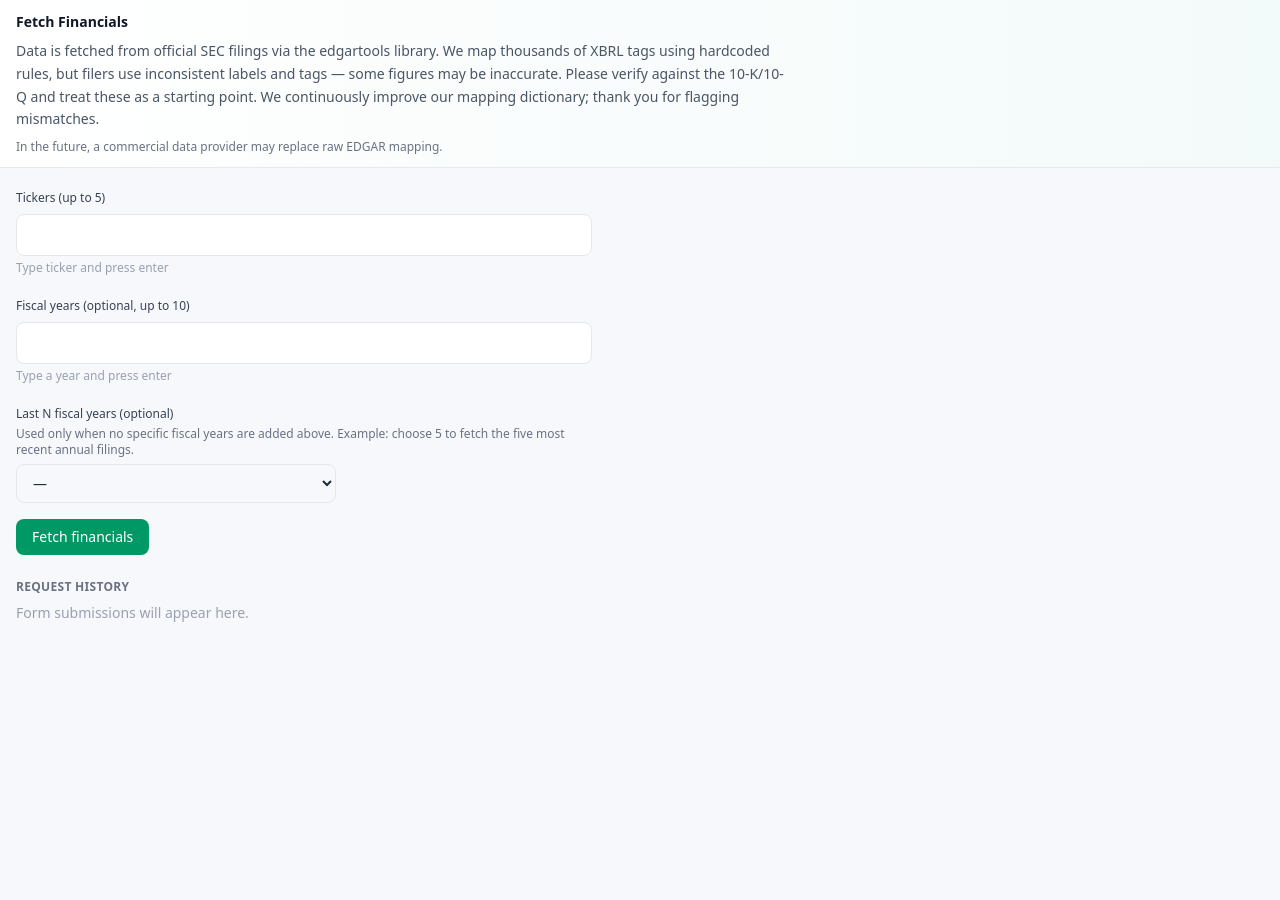
it: FetchFinancialsHubPanel › shows fill message and enables submit without tickers
Click the button "Fetch financials".
click(83, 537)  # box [16, 519, 149, 555]
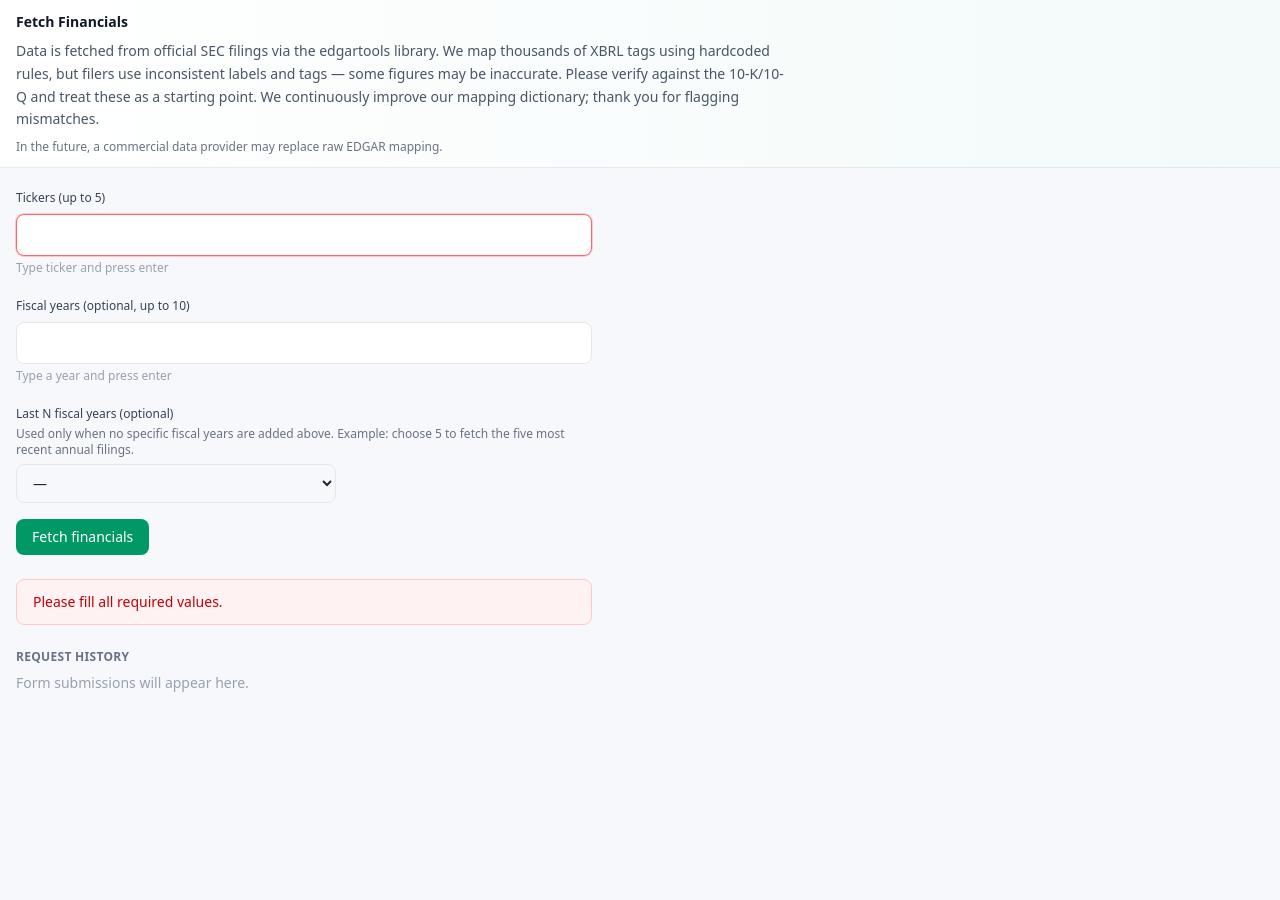
Result: the text "Please fill all required values." is shown at [16, 579, 592, 625]
